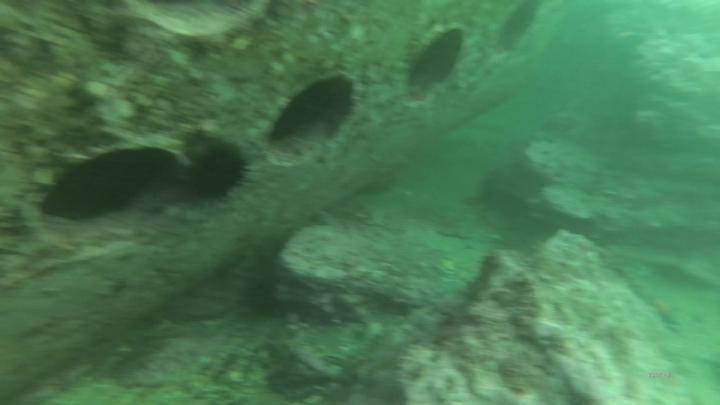echinus: (183, 143, 241, 207)
